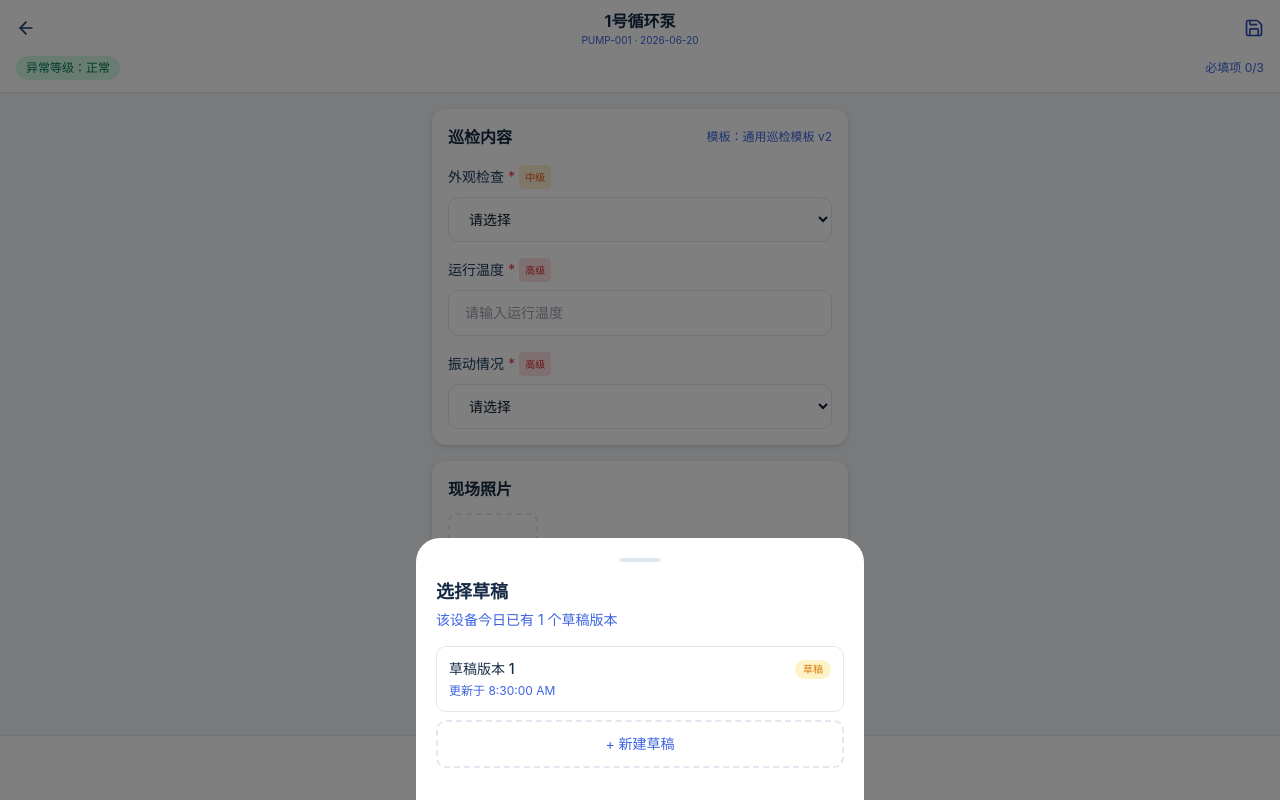
Test case: InspectionForm - 问题1: 刷新后草稿恢复 › 选择草稿后应该正确恢复表单内容
The image size is (1280, 800).
Expected: the heading "选择草稿" is shown, [436,581,508,602]
Step 1. Click the text "草稿版本 1" → (482, 669), box [449,659,514,679]
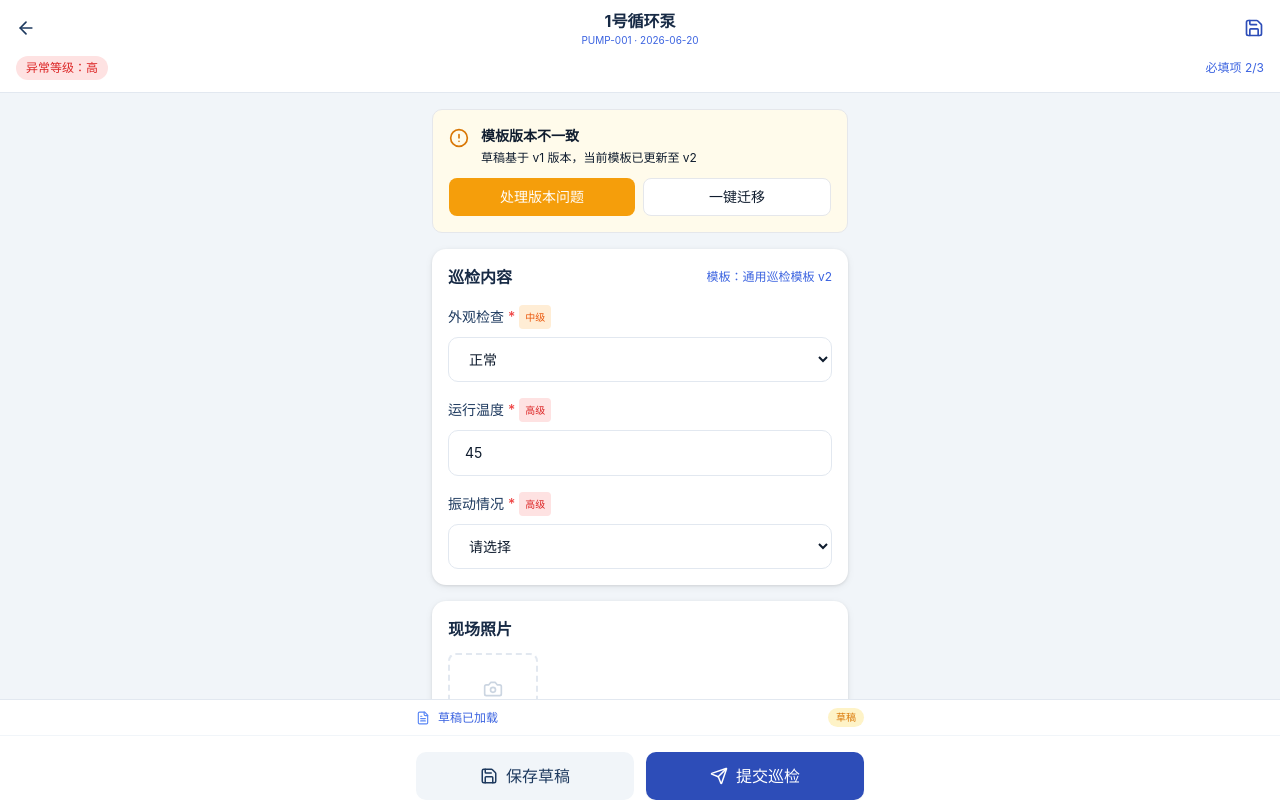
Expected: the heading "选择草稿" is gone
Expected: the dropdown showing "正常" is shown, [448,337,832,382]
